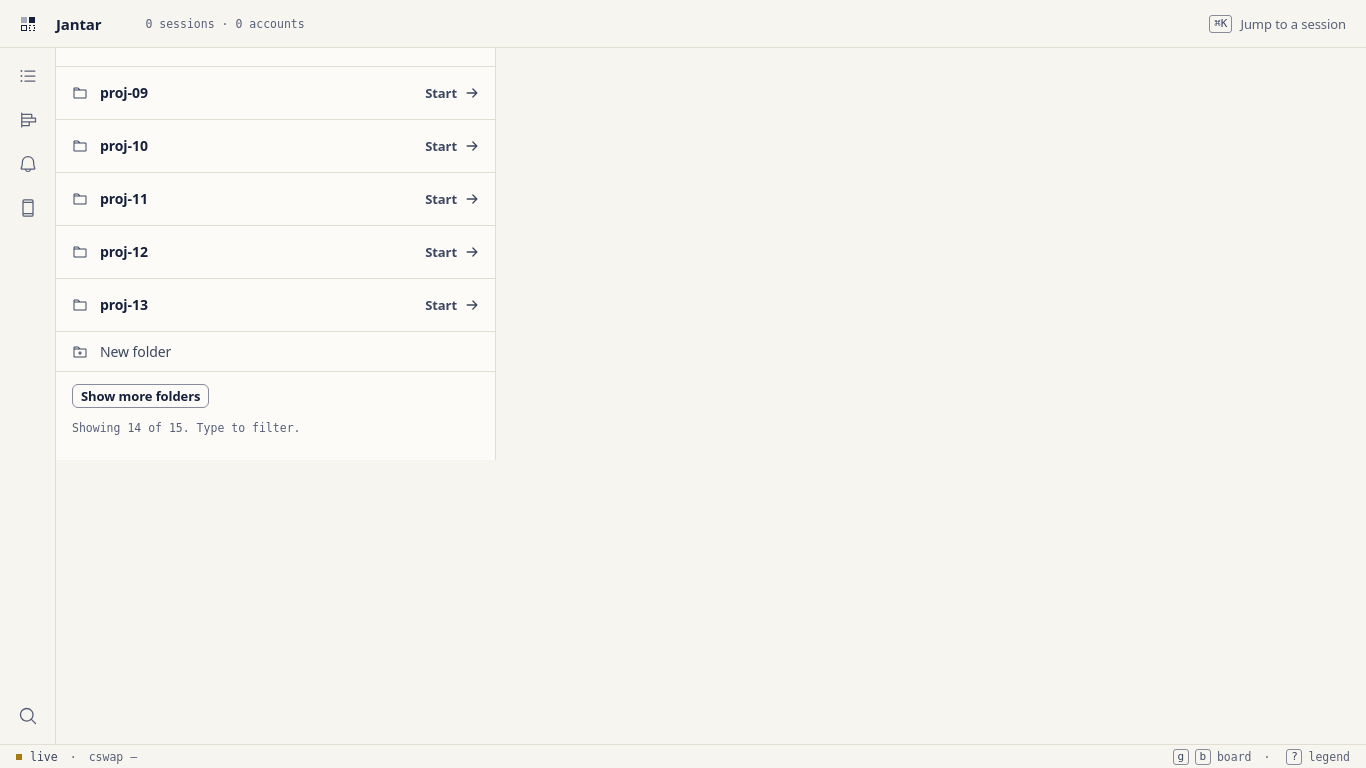
Scenario: folder browser: folders › says how many folders are still out, "Showing 14 of 15", until every page is in
(page scrolled)
What coordinates should you click on to do the following:
click the button "Show more folders"
I would click on:
 (141, 396)
Its box is [72,384,209,408].
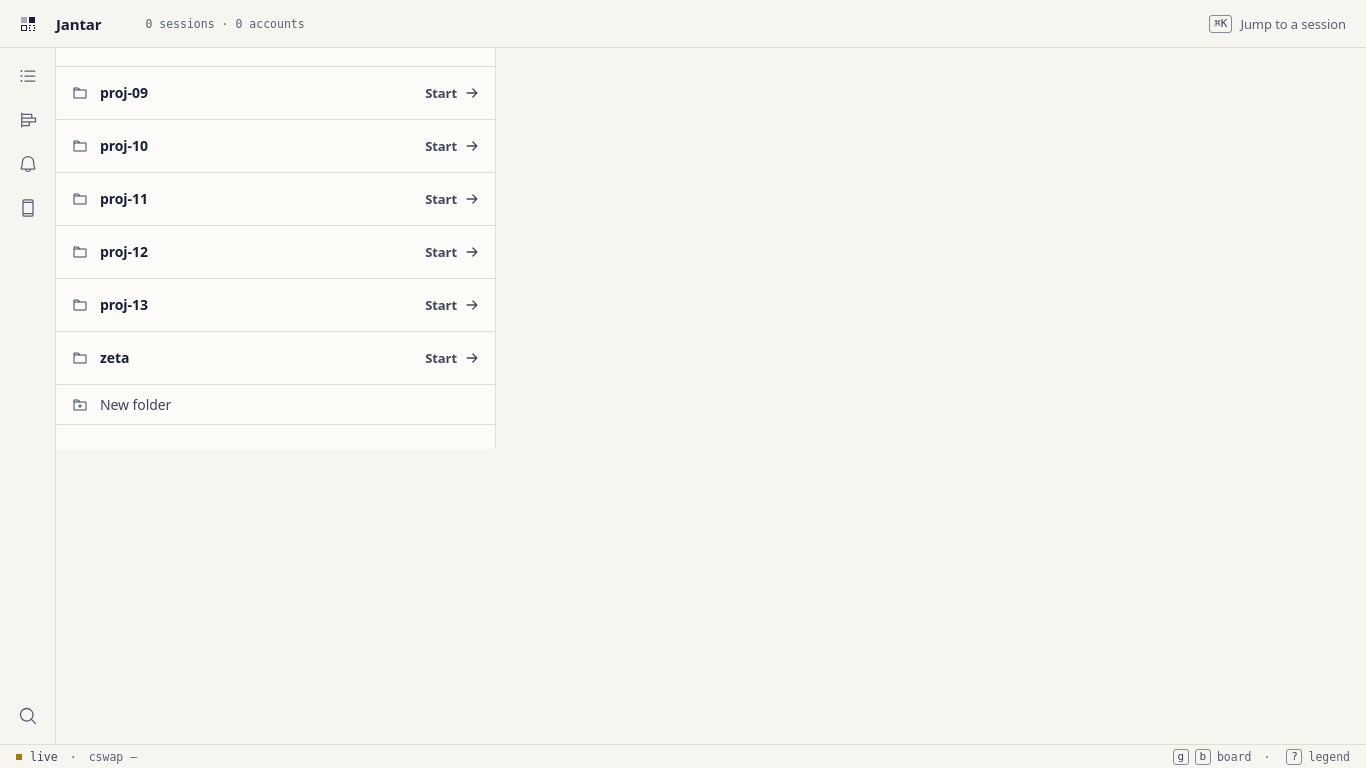
Check: the text "Showing " is gone
